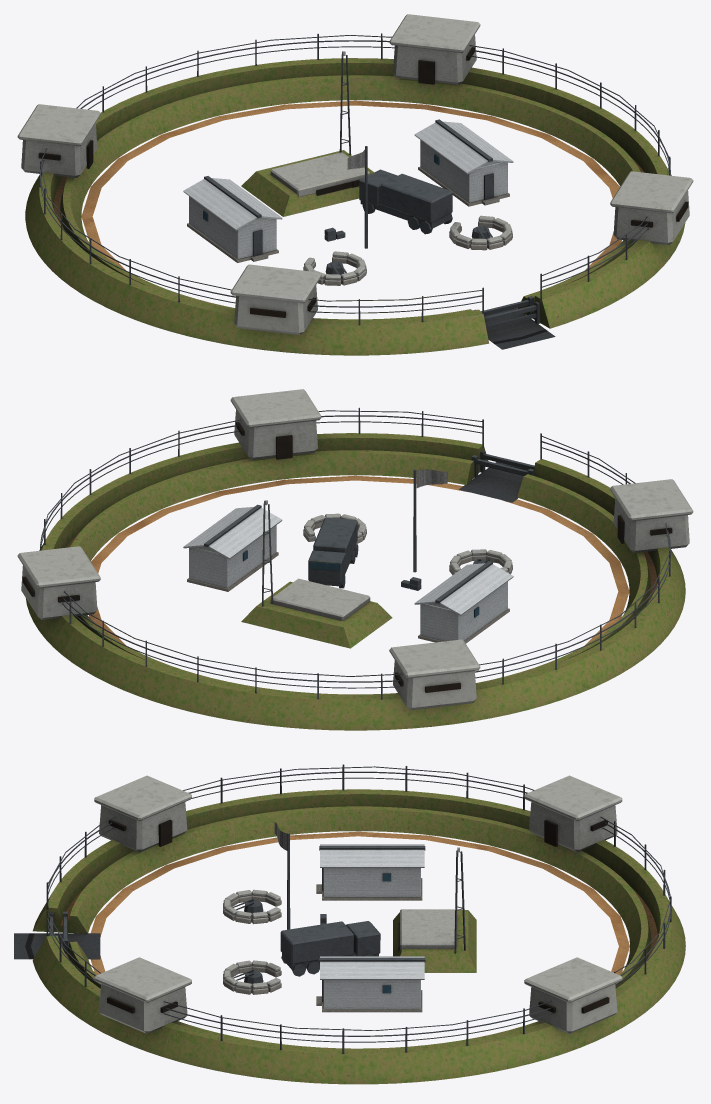
Rendered from fort-information.glb.
3 views of the same model, one above another, from view 1: azimuth 30°, elevation 25°; view 2: azimuth 150°, elevation 25°; view 3: azimuth 270°, elevation 25° (orthographic).
Visible parts, largest first — view 1: LOD0; view 2: LOD0; view 3: LOD0.
Boxes of the visible parts, x1=… form: LOD0: x1=17, y1=14, x2=693, y2=355; LOD0: x1=17, y1=389, x2=693, y2=730; LOD0: x1=14, y1=764, x2=685, y2=1084.
Size of what is drawn, in the model's own units: 4.86 by 0.9299 by 4.9.
3 materials, 3 textured.
